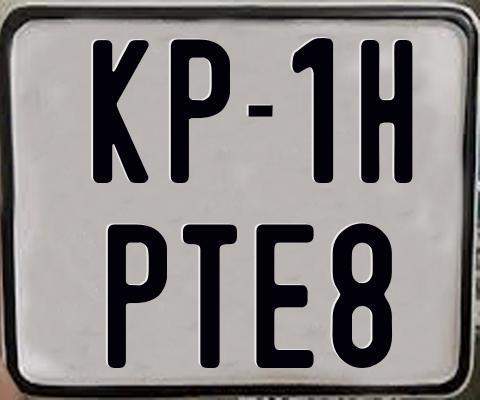1: (290, 36, 334, 184)
8: (329, 221, 391, 367)
E: (255, 224, 319, 374)
H: (360, 38, 417, 187)
K: (91, 39, 147, 182)
P: (107, 222, 167, 371), (169, 38, 228, 188)
T: (182, 222, 238, 370)
